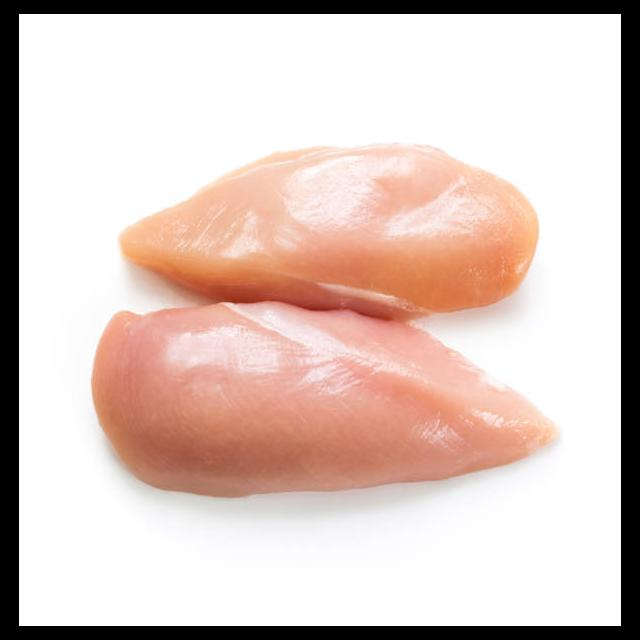chicken: (74, 286, 582, 503), (126, 140, 548, 319)
